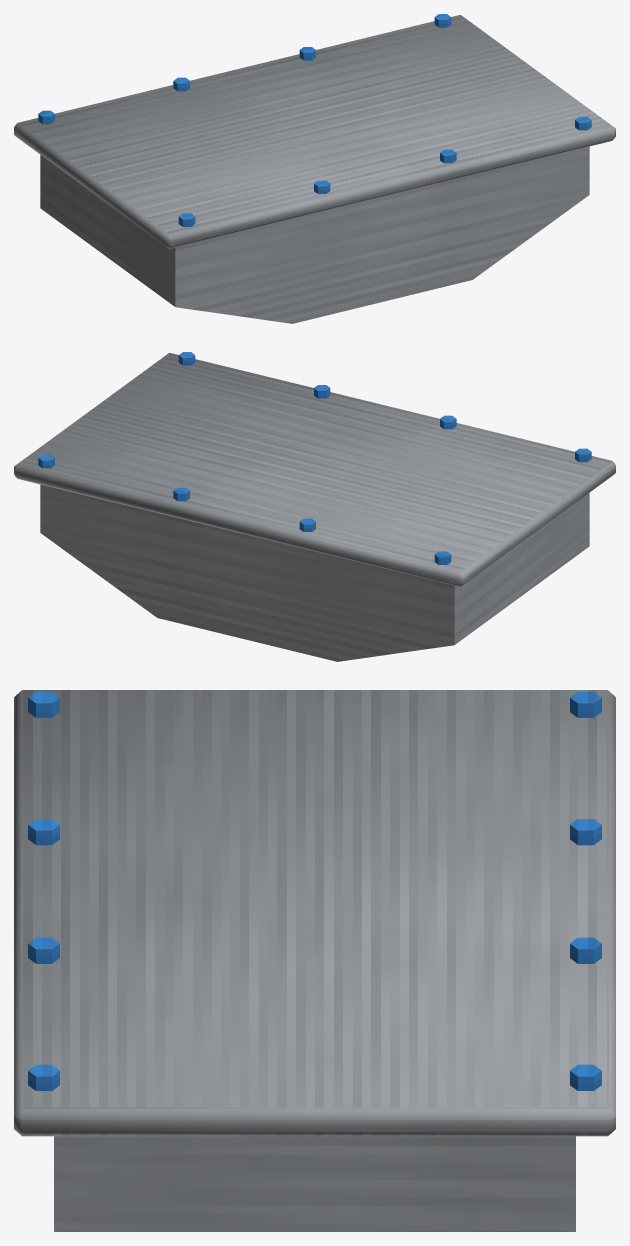
The model's file is carter_n2.glb.
The picture shows the model from 3 angles, top to bottom: view 1: azimuth 30°, elevation 25°; view 2: azimuth 150°, elevation 25°; view 3: azimuth 270°, elevation 25°; orthographic projection. The views are drawn at different scales.
Visible parts, largest first — view 1: carter_n2; view 2: carter_n2; view 3: carter_n2.
Part boxes in pixels (box(x1,y1,x2,y2)): carter_n2: box(14, 14, 615, 323); carter_n2: box(14, 352, 615, 661); carter_n2: box(14, 690, 615, 1231).
Bounding box in the file's own units: 0.5 × 0.154 × 0.3.
1 material, 1 textured.
